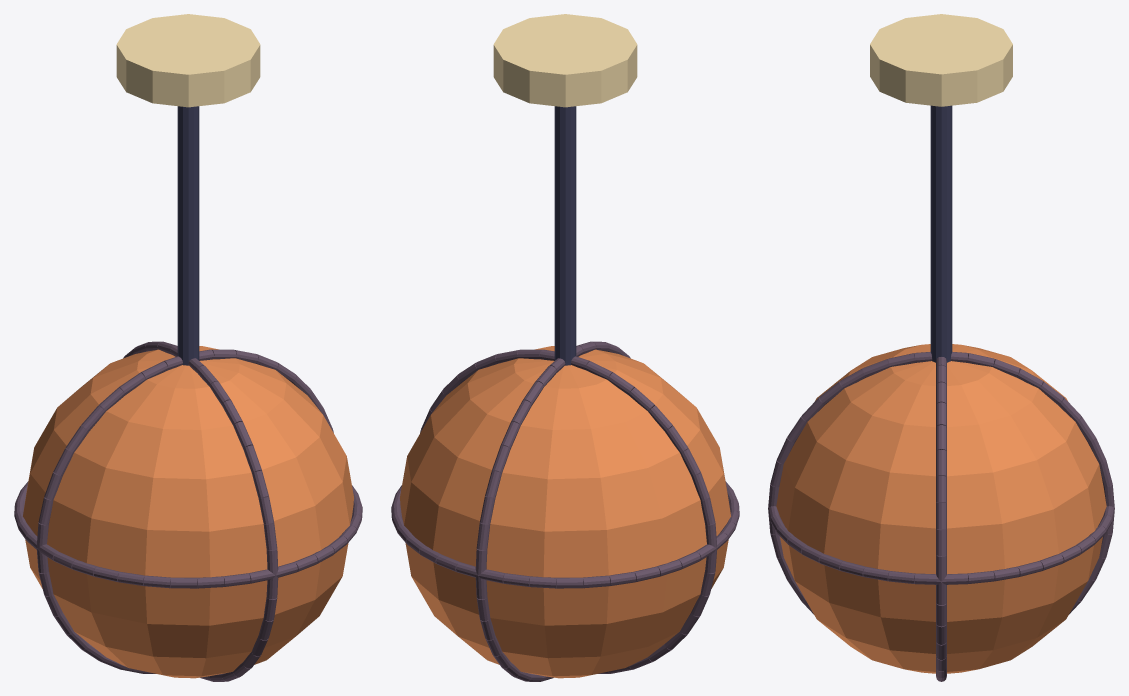
Rendered from basketball-ceiling-lamp.glb.
3 views of the same model, side by side, from view 1: azimuth 30°, elevation 25°; view 2: azimuth 150°, elevation 25°; view 3: azimuth 270°, elevation 25° (orthographic).
Visible parts, largest first — view 1: basketball-ceiling-lamp; view 2: basketball-ceiling-lamp; view 3: basketball-ceiling-lamp.
Part boxes in pixels (<box>): basketball-ceiling-lamp: <box>14,14,362,681</box>; basketball-ceiling-lamp: <box>391,14,739,681</box>; basketball-ceiling-lamp: <box>768,14,1114,681</box>.
Size of the model in its own units: 0.5819 by 1.15 by 0.5819.
